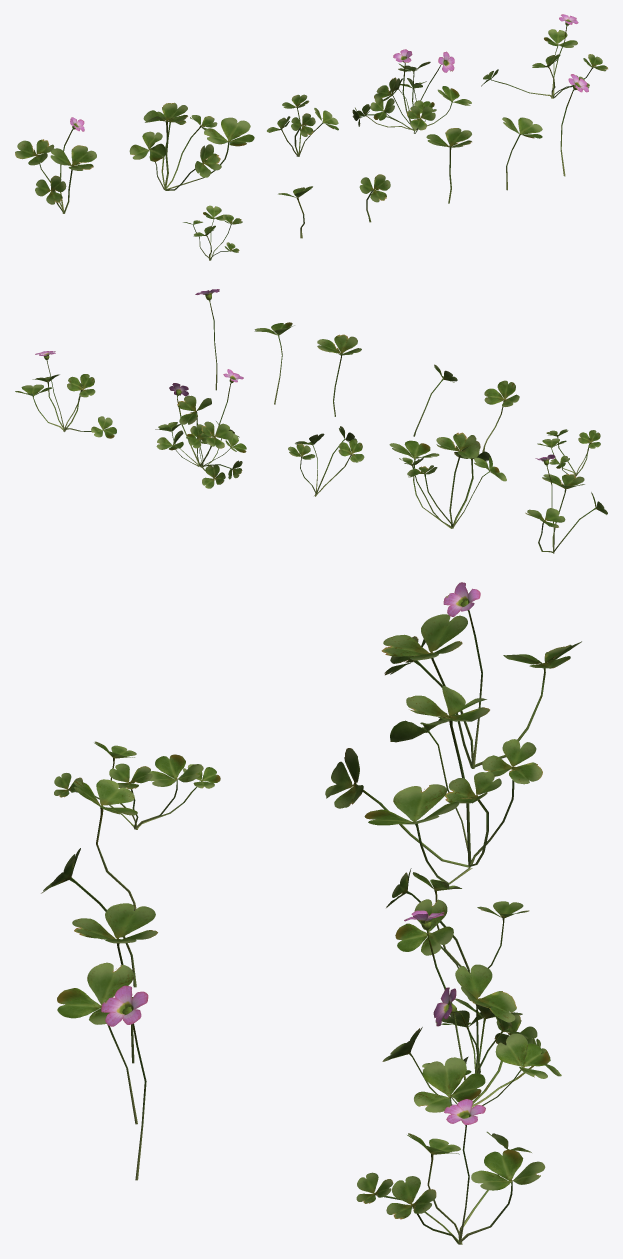
File: shrub_sorrel_01.glb
3 views of the same model, one above another, from view 1: azimuth 30°, elevation 25°; view 2: azimuth 150°, elevation 25°; view 3: azimuth 270°, elevation 25° (orthographic). The views are drawn at different scales.
Visible parts, largest first — view 1: shrub_sorrel_01_b_mesh, shrub_sorrel_01_d_mesh, shrub_sorrel_01_a_mesh, shrub_sorrel_01_e_mesh, shrub_sorrel_01_c_mesh, shrub_sorrel_01_f_mesh, shrub_sorrel_01_i_mesh, shrub_sorrel_01_h_mesh, shrub_sorrel_01_j_mesh, shrub_sorrel_01_k_mesh; view 2: shrub_sorrel_01_d_mesh, shrub_sorrel_01_b_mesh, shrub_sorrel_01_e_mesh, shrub_sorrel_01_a_mesh, shrub_sorrel_01_c_mesh, shrub_sorrel_01_f_mesh, shrub_sorrel_01_i_mesh, shrub_sorrel_01_g_mesh, shrub_sorrel_01_j_mesh; view 3: shrub_sorrel_01_b_mesh, shrub_sorrel_01_d_mesh, shrub_sorrel_01_e_mesh, shrub_sorrel_01_a_mesh, shrub_sorrel_01_f_mesh, shrub_sorrel_01_c_mesh, shrub_sorrel_01_j_mesh, shrub_sorrel_01_i_mesh, shrub_sorrel_01_k_mesh, shrub_sorrel_01_g_mesh.
Boxes of the visible parts, x1,y1,x2,y2 form: shrub_sorrel_01_b_mesh: [129, 102, 254, 190]; shrub_sorrel_01_d_mesh: [352, 49, 471, 133]; shrub_sorrel_01_a_mesh: [15, 117, 96, 213]; shrub_sorrel_01_e_mesh: [481, 14, 607, 98]; shrub_sorrel_01_c_mesh: [267, 94, 338, 156]; shrub_sorrel_01_f_mesh: [183, 205, 242, 260]; shrub_sorrel_01_i_mesh: [426, 128, 471, 203]; shrub_sorrel_01_h_mesh: [359, 174, 390, 222]; shrub_sorrel_01_j_mesh: [502, 117, 542, 190]; shrub_sorrel_01_k_mesh: [560, 74, 588, 176]; shrub_sorrel_01_d_mesh: [155, 369, 246, 488]; shrub_sorrel_01_b_mesh: [389, 432, 506, 528]; shrub_sorrel_01_e_mesh: [15, 351, 116, 438]; shrub_sorrel_01_a_mesh: [525, 454, 607, 553]; shrub_sorrel_01_c_mesh: [288, 426, 364, 496]; shrub_sorrel_01_f_mesh: [537, 429, 600, 476]; shrub_sorrel_01_i_mesh: [317, 334, 361, 416]; shrub_sorrel_01_g_mesh: [482, 380, 519, 452]; shrub_sorrel_01_j_mesh: [254, 322, 294, 404]; shrub_sorrel_01_b_mesh: [325, 686, 542, 884]; shrub_sorrel_01_d_mesh: [382, 910, 561, 1112]; shrub_sorrel_01_e_mesh: [356, 1099, 545, 1244]; shrub_sorrel_01_a_mesh: [381, 582, 581, 768]; shrub_sorrel_01_f_mesh: [54, 741, 220, 829]; shrub_sorrel_01_c_mesh: [386, 868, 529, 973]; shrub_sorrel_01_j_mesh: [57, 962, 137, 1124]; shrub_sorrel_01_i_mesh: [72, 903, 157, 1063]; shrub_sorrel_01_k_mesh: [101, 985, 148, 1180]; shrub_sorrel_01_g_mesh: [73, 779, 137, 910].
Bounding box in the file's own units: 0.3521 × 0.058 × 0.1464.
Materials: 1 (1 with a texture image).
